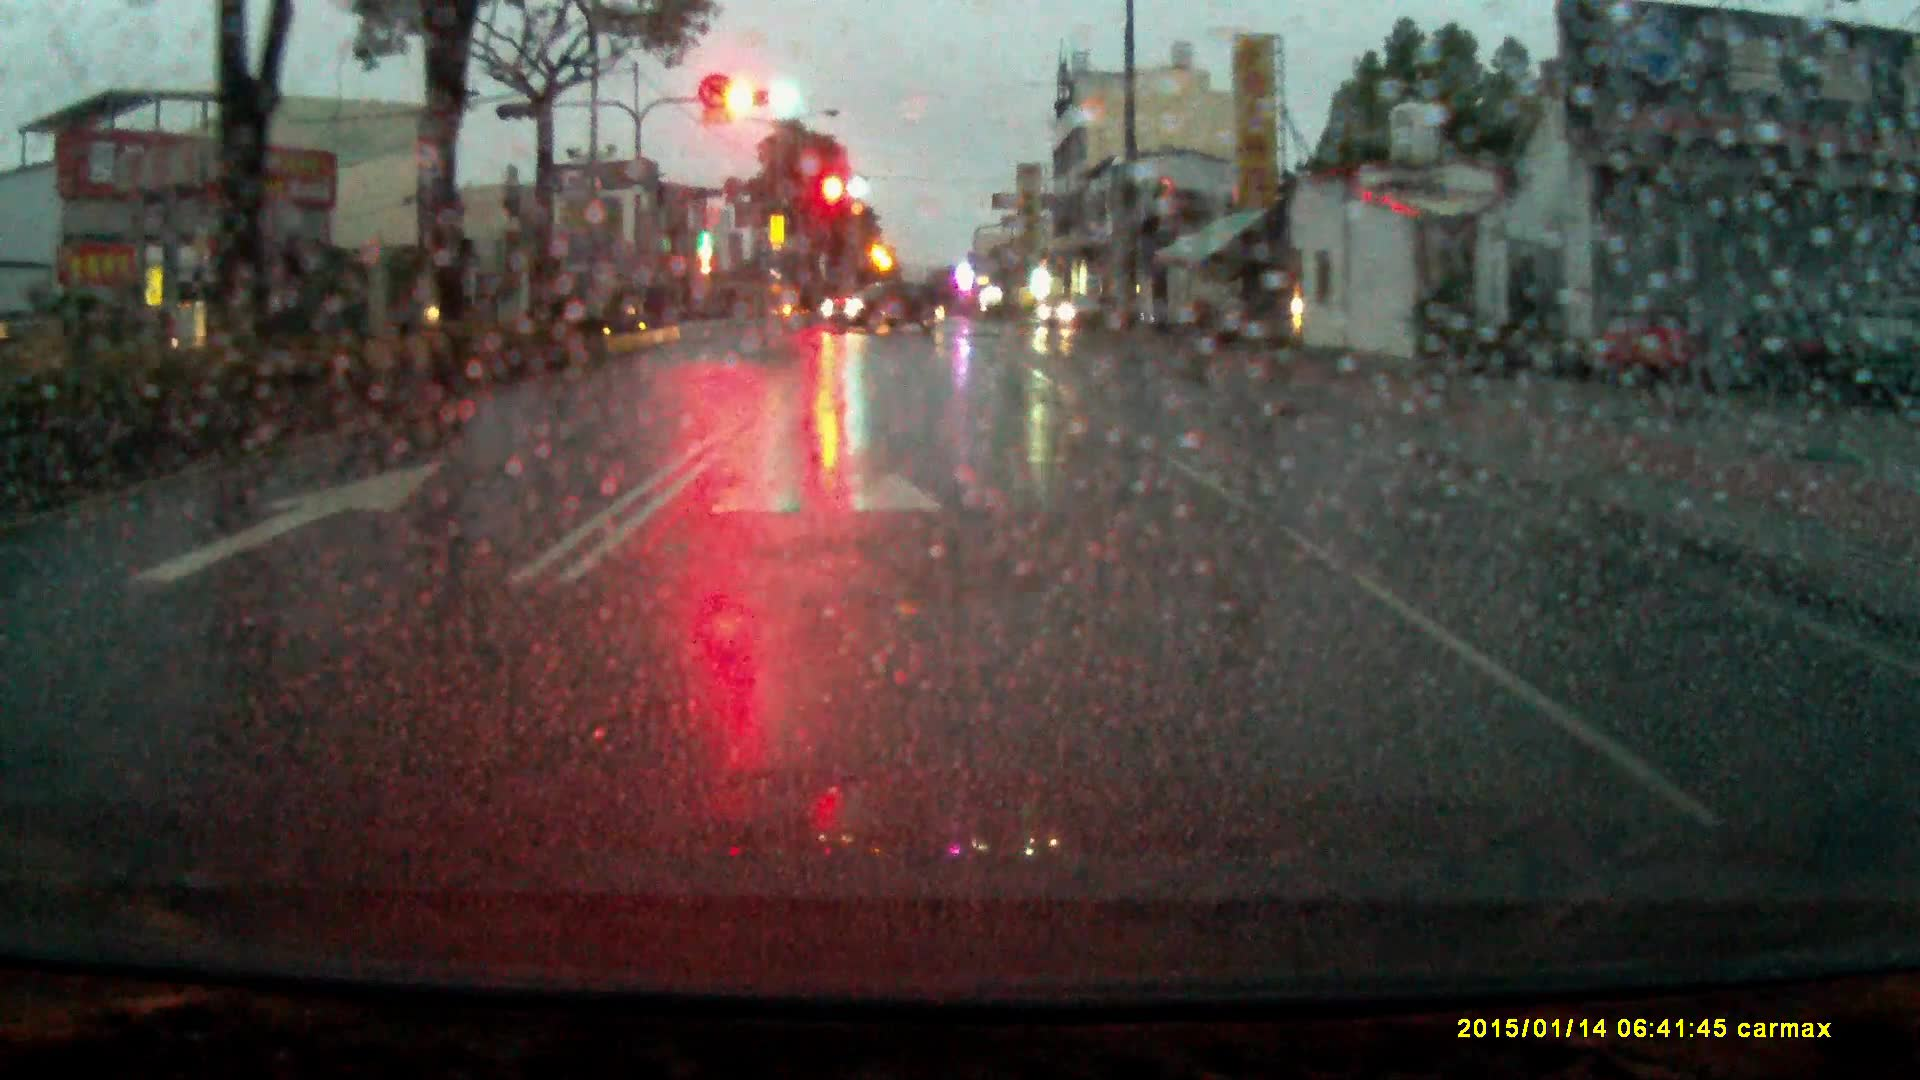vehicle: (819, 280, 949, 340), (1039, 290, 1135, 342)
